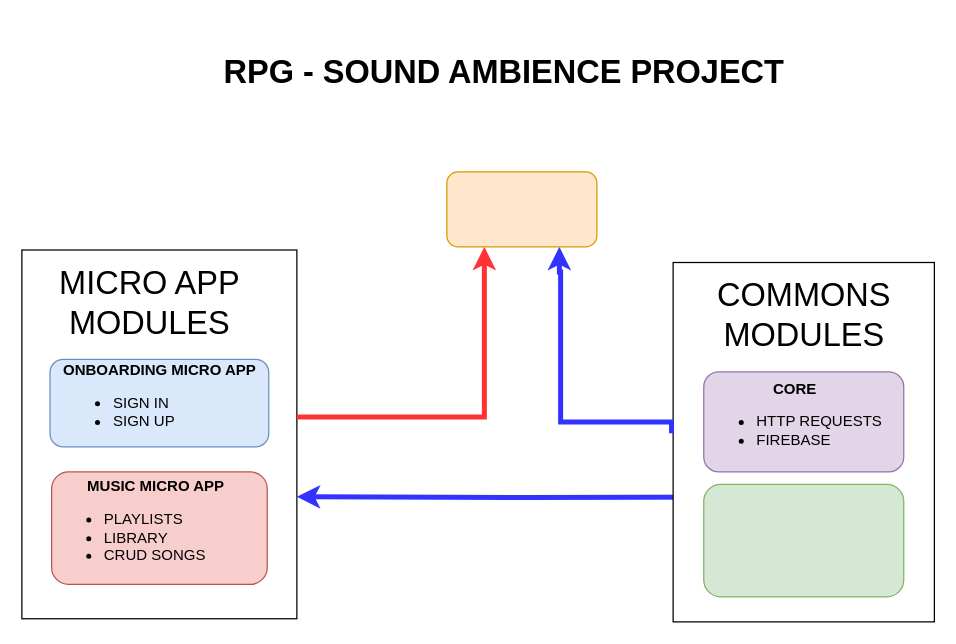
The diagram is 956 pixels wide and 644 high, and some of its shapes have lost their labels. Each missing label, with the centre of its shape:
"COMPONENTS WIDGETS" goes at pixel 803 540.
"ORCHESTRATOR APP" goes at pixel 521 209.
